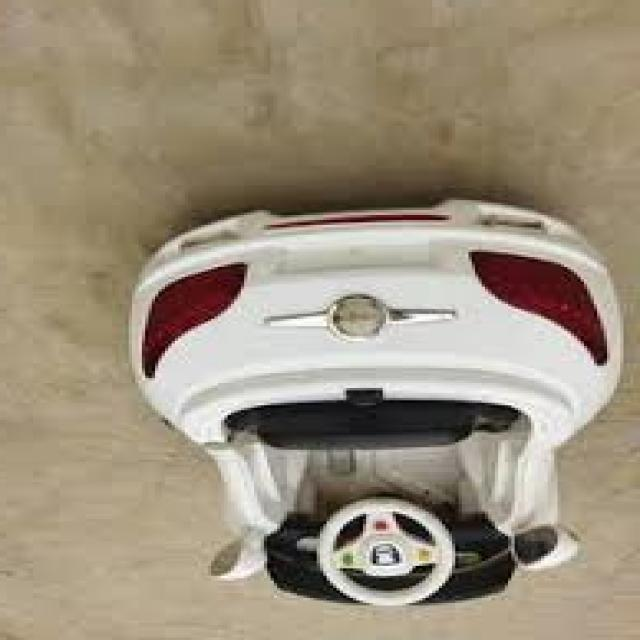Car: (128, 198, 626, 608)
